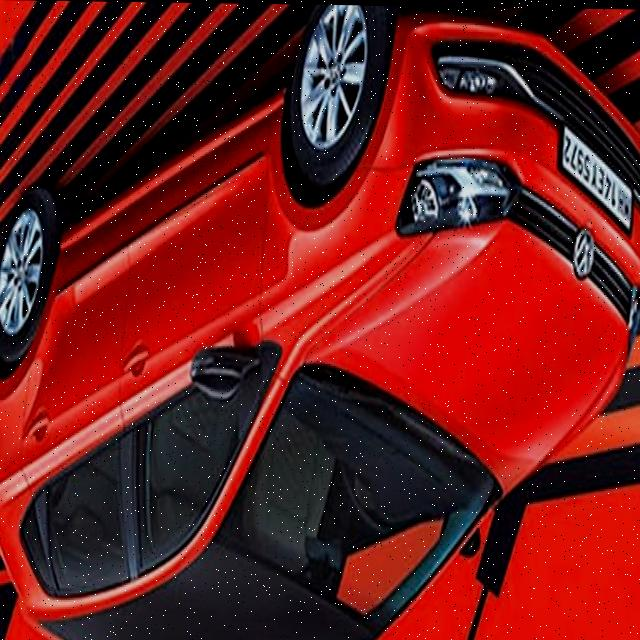plate: (559, 106, 633, 239)
